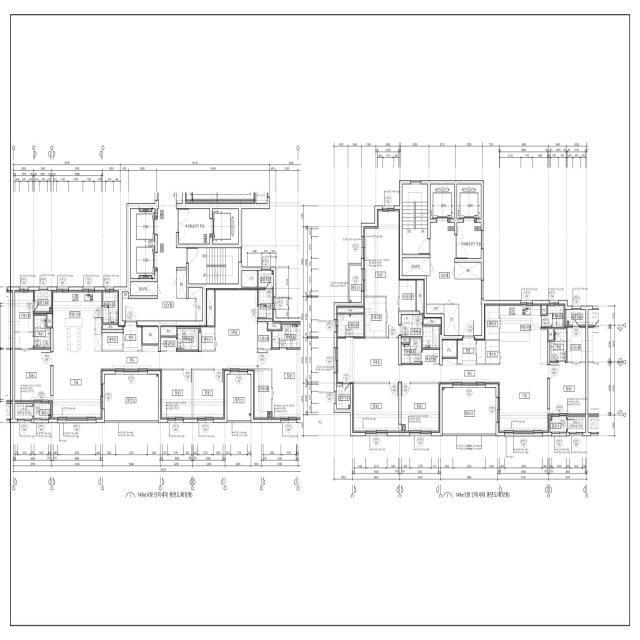space_balconi: (442, 388, 496, 434), (105, 374, 158, 420), (227, 375, 251, 420), (550, 417, 585, 432), (350, 265, 361, 303), (34, 403, 51, 419)
space_bedroom: (364, 210, 399, 337), (258, 350, 310, 419), (15, 333, 51, 402), (353, 384, 399, 432), (401, 384, 440, 433), (550, 363, 586, 415), (193, 370, 224, 419), (161, 370, 192, 419)
space_dressroom: (364, 297, 386, 337), (254, 370, 271, 419), (15, 291, 34, 331), (568, 327, 585, 361), (400, 280, 416, 311), (258, 322, 271, 348)
space_elevator: (210, 209, 238, 244), (131, 243, 158, 278), (131, 209, 158, 243), (457, 184, 481, 219), (430, 184, 454, 219)
space_elevator_hall: (122, 193, 210, 321), (427, 223, 482, 336)
space_front: (458, 337, 485, 365), (123, 323, 142, 352)
space_kitchen: (52, 291, 102, 352), (500, 304, 547, 365)
space_living_room: (52, 289, 257, 419), (337, 338, 549, 432)
space_multipurpose_space: (337, 314, 364, 337), (542, 304, 565, 327), (103, 291, 119, 323), (258, 289, 273, 319)
space_other: (402, 258, 430, 276), (188, 288, 203, 321), (485, 304, 499, 339), (444, 304, 459, 335), (455, 262, 481, 279), (131, 282, 157, 295), (103, 333, 122, 350), (201, 326, 214, 350), (206, 289, 214, 326), (486, 341, 499, 363), (442, 339, 457, 357), (15, 404, 33, 419), (143, 326, 158, 344), (177, 270, 186, 298), (242, 271, 257, 287), (417, 280, 424, 313), (427, 304, 444, 314), (337, 307, 364, 313), (161, 326, 176, 336), (424, 318, 441, 325), (268, 322, 280, 329), (103, 325, 122, 329), (47, 313, 52, 327), (549, 329, 553, 340), (401, 338, 409, 343), (401, 331, 409, 336), (122, 292, 128, 298)
space_outdoor_room: (35, 291, 51, 312), (337, 384, 350, 409), (566, 310, 585, 326), (258, 271, 273, 287)
space_staircase: (402, 184, 428, 254), (189, 248, 238, 284)
space_toilet: (401, 315, 439, 348), (401, 338, 439, 365), (161, 329, 199, 352), (272, 325, 308, 348), (550, 329, 566, 361), (34, 316, 50, 348)
